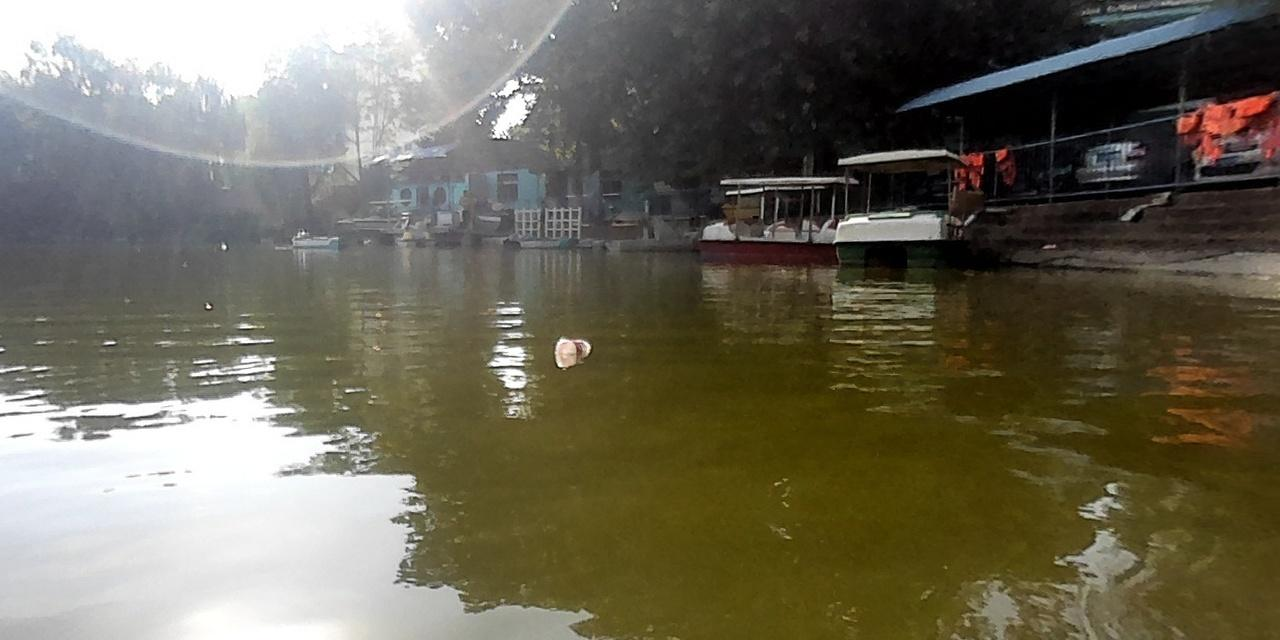bottle: (555, 336, 590, 356)
